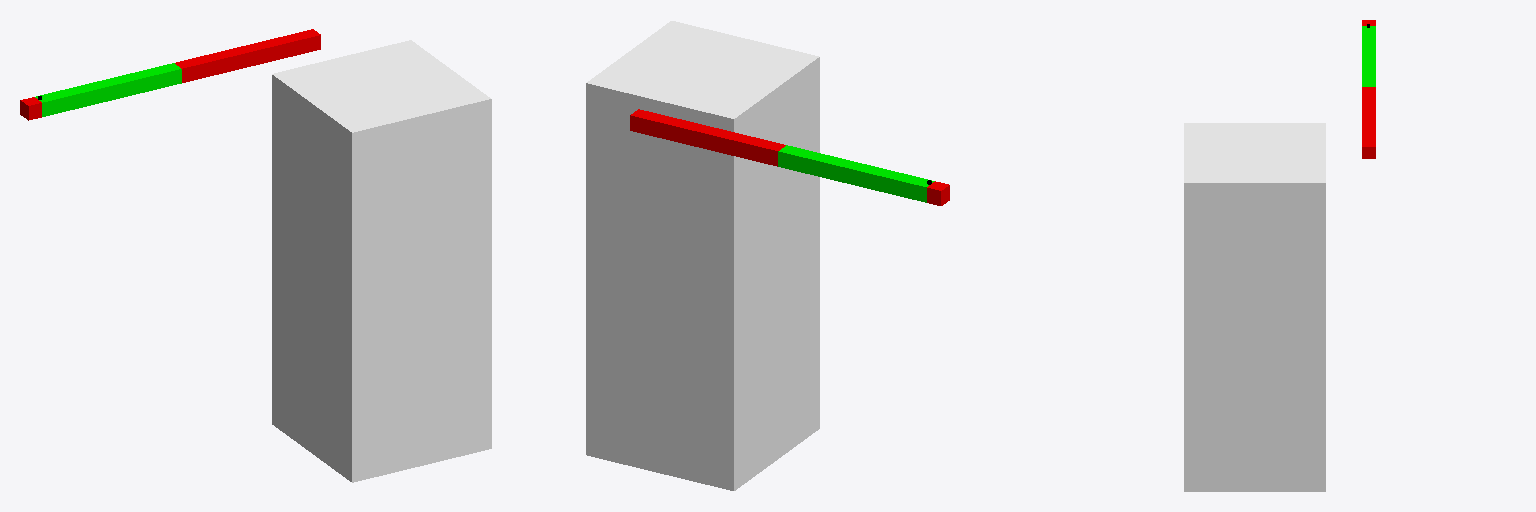
URDF robot description (simple_two_axis_robot):
<robot name="simple_two_axis_robot">
	<material name="white">
		<color rgba="1 1 1 1"/>
	</material>
	<material name="red">
		<color rgba="1 0 0 1"/>
	</material>
	<material name="green">
		<color rgba="0 1 0 1"/>
	</material>
	<material name="black">
		<color rgba="0 0 0 1"/>
	</material>

	<link name="base_box">
			<visual>
				<origin xyz="0 0 0.6" rpy="0 0 0"/>
				<geometry>
					<box size="0.5 0.5 1.2"/>
				</geometry>
				<material name="white"/>
			</visual>
			<collision>
				<origin xyz="0 0 0.6" rpy="0 0 0"/>
				<geometry>
					<box size="0.5 0.5 1.2"/>
				</geometry>
			</collision>
			<inertial>
				<origin xyz="0 0 0" rpy="0 0 0"/>
				<mass value="1"/>
				<inertia ixx="0.000034533333" ixy="0" ixz="0"
						iyx="0" iyy="0.000034533333" iyz="0"
						izx="0" izy="0" izz="0.0000648"/>
			</inertial>
	</link>

	<link name="link1">
			<visual>
				<origin xyz="0 0 0.25" rpy="0 0 0"/>
				<geometry>
					<box size="0.05 0.05 0.5"/>
				</geometry>
				<material name="red"/>
			</visual>
			<collision>
				<origin xyz="0 0 0.25" rpy="0 0 0"/>
				<geometry>
					<box size="0.05 0.05 0.5"/>
				</geometry>
			</collision>
			<inertial>
				<origin xyz="0 0 0" rpy="0 0 0"/>
				<mass value="0.1"/>
				<inertia ixx="0.000034533333" ixy="0" ixz="0"
						iyx="0" iyy="0.000034533333" iyz="0"
						izx="0" izy="0" izz="0.0000648"/>
			</inertial>
	</link>

	<joint name="joint1" type="continuous">
			<parent link="base_box"/>
			<child link="link1"/>
			<origin xyz="0 0.4 1.2" rpy="0 -1.57 0"/>
			<axis xyz="0 1 0"/>
	</joint>

	<link name="link2">
			<visual>
				<origin xyz="0 0 0.25" rpy="0 0 0"/>
				<geometry>
					<box size="0.05 0.05 0.5"/>
				</geometry>
				<material name="green"/>
			</visual>
			<collision>
				<origin xyz="0 0 0.25" rpy="0 0 0"/>
				<geometry>
					<box size="0.05 0.05 0.5"/>
				</geometry>
			</collision>
			<inertial>
				<origin xyz="0 0 0" rpy="0 0 0"/>
				<mass value="0.1"/>
				<inertia ixx="0.000034533333" ixy="0" ixz="0"
						iyx="0" iyy="0.000034533333" iyz="0"
						izx="0" izy="0" izz="0.0000648"/>
			</inertial>
	</link>

	<joint name="joint2" type="continuous">
			<parent link="link1"/>
			<child link="link2"/>
			<origin xyz="0 0 0.5" rpy="0 0 0"/>
			<axis xyz="0 1 0"/>
	</joint>

	<link name="camera_link">
			<visual>
				<origin xyz="0 0 0" rpy="0 0 0"/>
				<geometry>
					<box size="0.01 0.01 0.01"/>
				</geometry>
				<material name="black"/>
			</visual>
			<collision>
				<origin xyz="0 0 0" rpy="0 0 0"/>
				<geometry>
					<box size="0.01 0.01 0.01"/>
				</geometry>
			</collision>
			<inertial>
				<origin xyz="0 0 0" rpy="0 0 0"/>
				<mass value="0.0001"/>
				<inertia ixx="0.000034533333" ixy="0" ixz="0"
						iyx="0" iyy="0.000034533333" iyz="0"
						izx="0" izy="0" izz="0.0000648"/>
			</inertial>
	</link>

	<joint name="camera_joint" type="fixed">
			<parent link="link2"/>
			<child link="camera_link"/>
			<origin xyz="0.03 0.0 0.495" rpy="0 0 0"/>
			<axis xyz="0 0 1"/>
	</joint>

	<link name="target_position_virtual_link">
			<inertial>
				<mass value="0.0001"/> <origin xyz="0 0 0" rpy="0 0 0"/>
				<inertia ixx="0.000000001" ixy="0" ixz="0"
						iyx="0" iyy="0.000000001" iyz="0"
						izx="0" izy="0" izz="0.000000001"/>
			</inertial>
	</link>

	<joint name="camera_target_joint" type="fixed">
			<parent link="camera_link"/>
			<child link="target_position_virtual_link"/>
			<origin xyz="0.0 0.0 0.01" rpy="0 0 0"/>
			<axis xyz="0 0 1"/>
	</joint>

	<link name="force_sensor_link">
			<visual>
				<origin xyz="0 0 0.025" rpy="0 0 0"/>
				<geometry>
					<box size="0.05 0.05 0.05"/>
				</geometry>
				<material name="red"/>
			</visual>
			<collision>
				<origin xyz="0 0 0.025" rpy="0 0 0"/>
				<geometry>
					<box size="0.05 0.05 0.05"/>
				</geometry>
			</collision>
			<inertial>
				<origin xyz="0 0 0" rpy="0 0 0"/>
				<mass value="0.0001"/>
				<inertia ixx="0.000034533333" ixy="0" ixz="0"
						iyx="0" iyy="0.000034533333" iyz="0"
						izx="0" izy="0" izz="0.0000648"/>
			</inertial>
	</link>

	<joint name="force_sensor_joint" type="fixed">
			<parent link="link2"/>
			<child link="force_sensor_link"/>
			<origin xyz="0.0 0.0 0.5" rpy="0 0 0"/>
			<axis xyz="0 0 1"/>
	</joint>

</robot>

--- Facts derived from the render (not from the file) ---
3 views of the same robot in one strip: view 1: azimuth 30°, elevation 25°; view 2: azimuth 150°, elevation 25°; view 3: azimuth 270°, elevation 25° (orthographic).
Model simple_two_axis_robot with 6 links and 5 joints (2 continuous, 3 fixed), rooted at base_box, posed all joints at 0.
Visible links, largest first — view 1: base_box, link1, link2; view 2: base_box, link1, link2; view 3: base_box, link1, link2.
Boxes of the visible links, x1,y1,x2,y2 form: base_box: [272, 40, 491, 482]; link1: [175, 29, 320, 82]; link2: [35, 63, 181, 116]; base_box: [586, 21, 819, 490]; link1: [630, 109, 785, 166]; link2: [778, 145, 934, 202]; base_box: [1184, 123, 1325, 491]; link1: [1362, 87, 1375, 158]; link2: [1362, 26, 1375, 86].
Bounding box of the posed robot: 1.3 × 0.675 × 1.24 m (x, y, z).
Geometry: primitives only (box / cylinder / sphere), no mesh files.